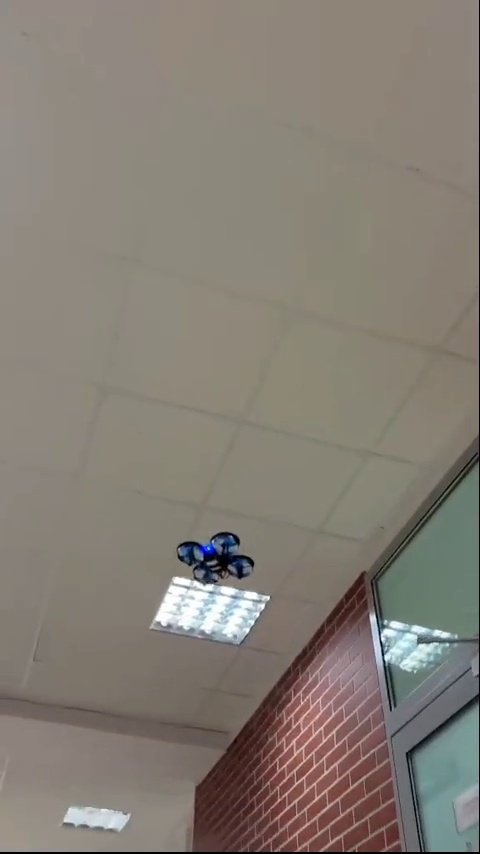drone: (182, 535, 255, 593)
